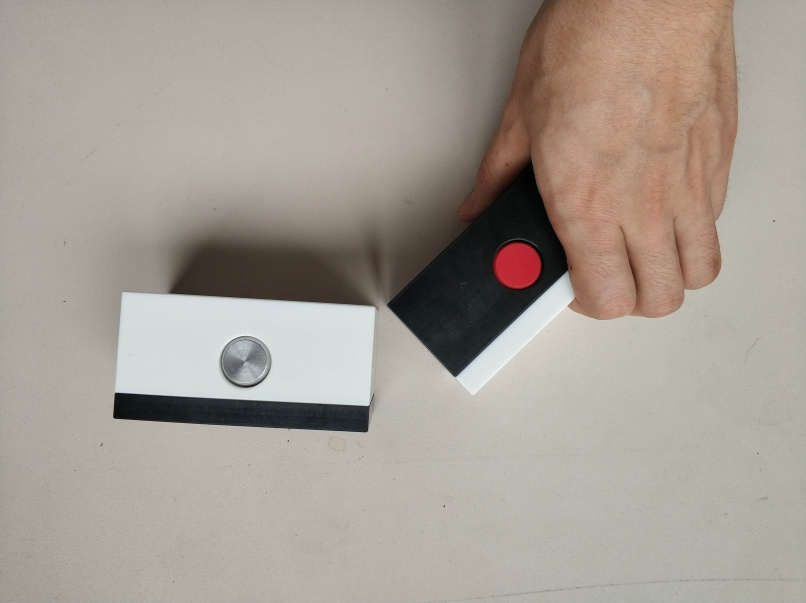black+white+silver: (110, 290, 378, 435)
white+black+red: (384, 166, 578, 401)
